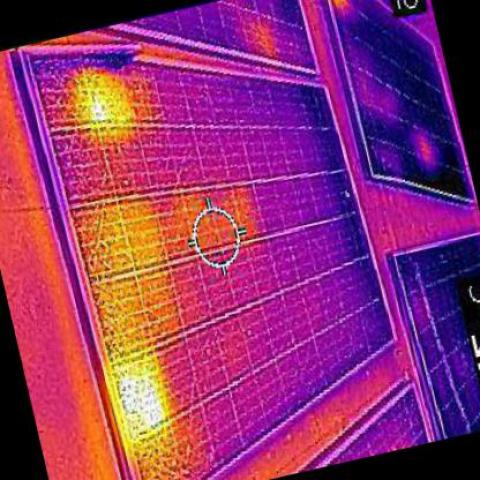fault: (114, 365, 164, 429), (90, 97, 111, 130)
